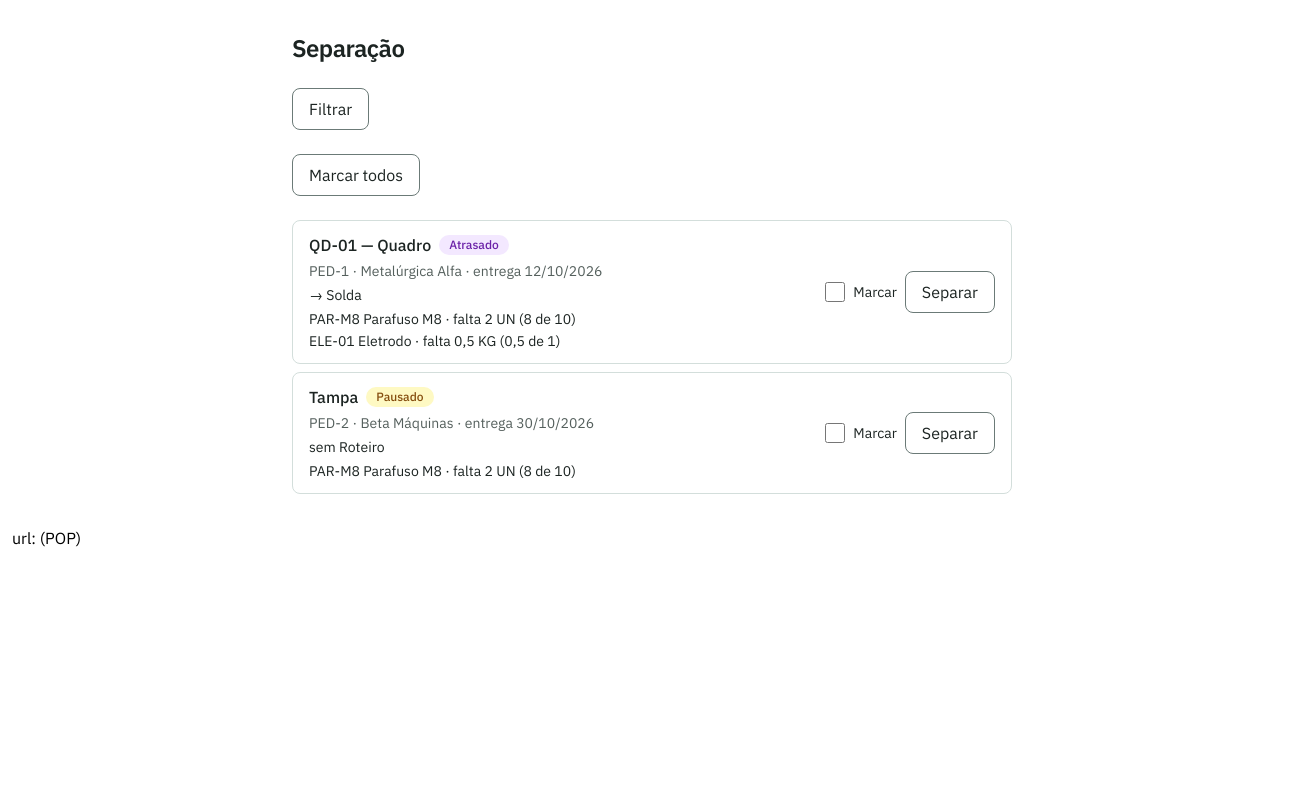
SeparacaoPage › 409 com o painel aberto recarrega a lista e mantém o painel com a frase
Click the button with aria-label "Separar QD-01 — Quadro (PED-1)" at [950, 292], box [905,271,995,313]
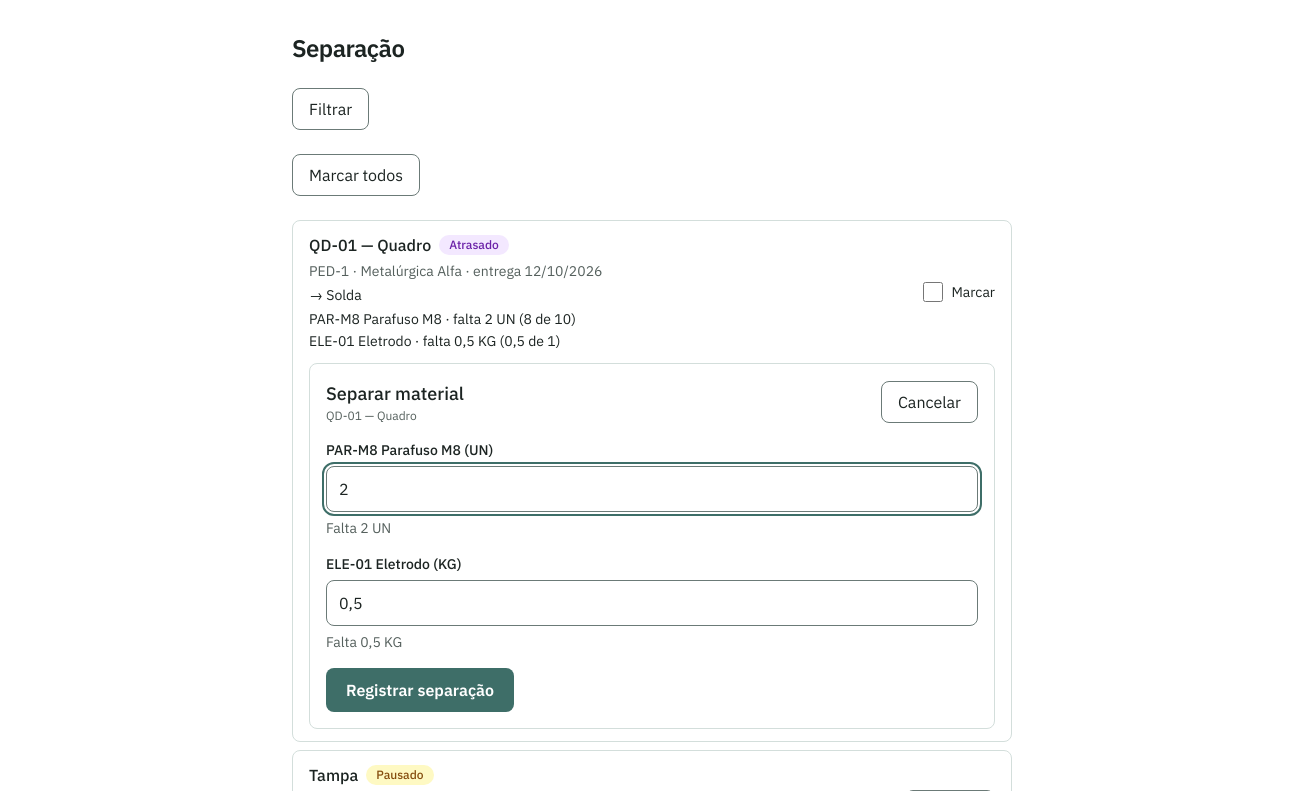
Click the button "Registrar separação" at [420, 690], box [326,668,514,712]
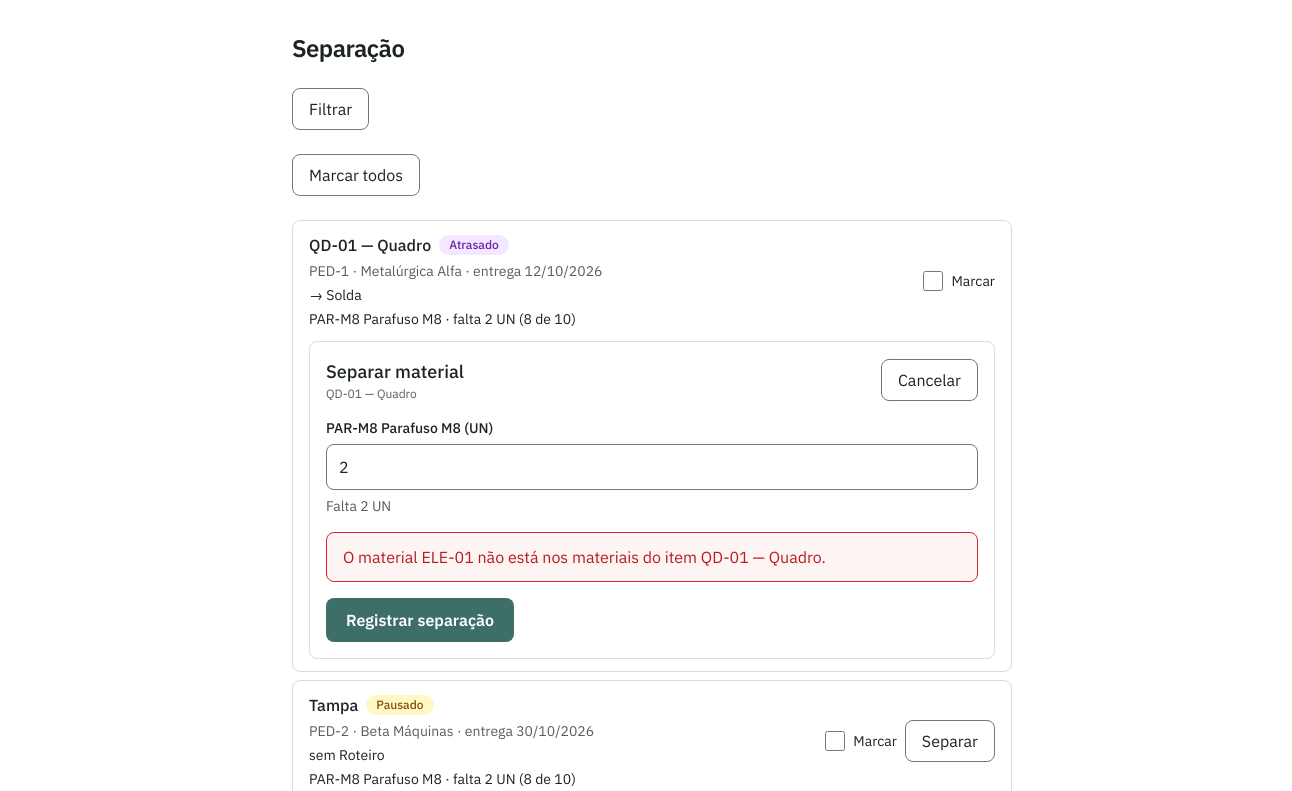
expect the field labelled "PAR-M8 Parafuso M8 (UN)" is shown: met, box [326,444,978,490]
expect the message reads "O material ELE-01 não está nos materiais do item QD-01 — Quadro.": met, box [343,547,826,567]
